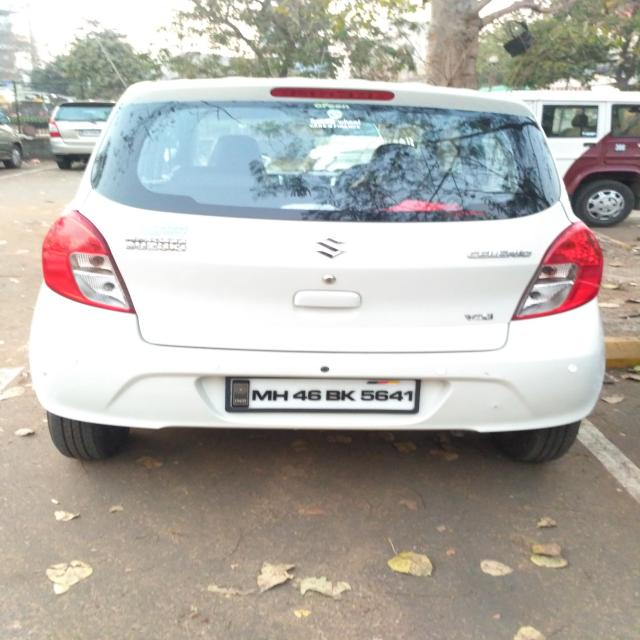Number-Plate: (231, 380, 419, 412)
